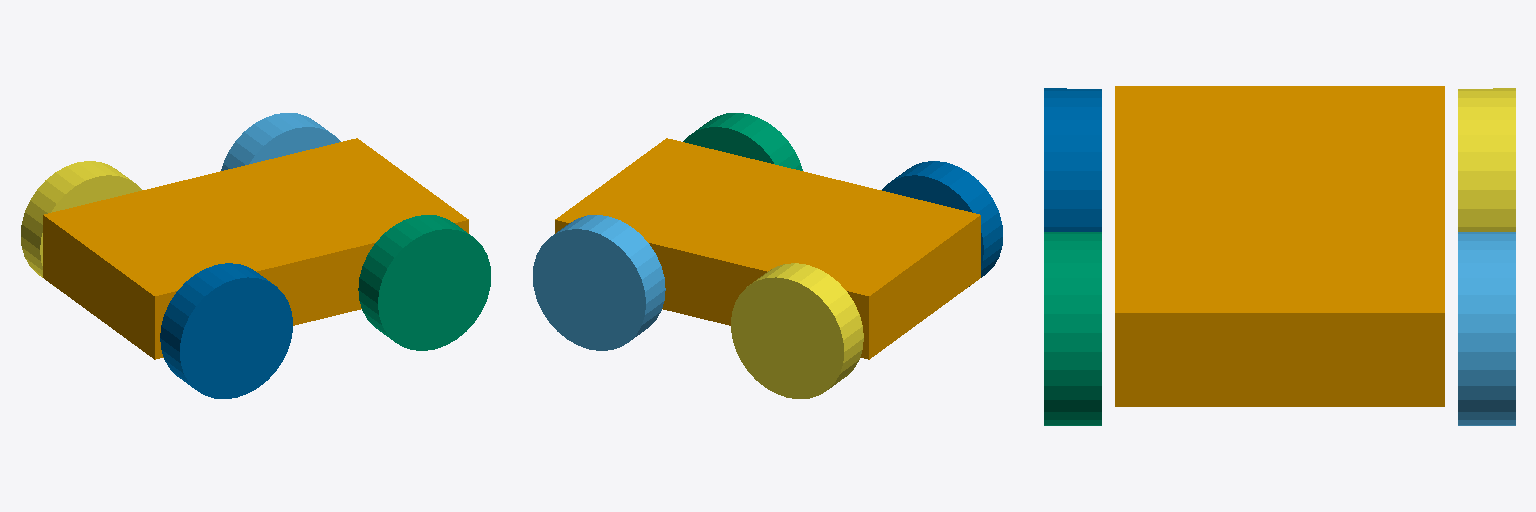
URDF robot description (symmetric_skid_steer):
<?xml version="1.0"?>
<robot name="symmetric_skid_steer">

  <material name="red">
    <color rgba="1 0 0 1"/>
  </material>

  <!-- Base Link: COM is at the geometric center -->
  <link name="main_body">
    <inertial>
      <mass value="21.0"/>
      <inertia ixx="0.4" ixy="0.0" ixz="0.0" iyy="0.77" iyz="0.0" izz="1.01"/>
    </inertial>
    <!-- Visual and collision geometries are centered -->
    <visual name="main_body_visual">
      <origin xyz="0 0 0.07" rpy="0 0 0"/>
      <geometry>
        <box size="0.65 0.4 0.125"/>
      </geometry>
    </visual>
    <collision name="main_body_collision">
      <origin xyz="0 0 0.07" rpy="0 0 0.0"/>
      <geometry>
        <box size=".65 .4 .125"/>
      </geometry>
      <material name="red"/>
    </collision>
  </link>

  <!-- Left Front Wheel -->
  <link name="left_front_wheel">
    <inertial>
      <!-- Inertial origin is at the joint location relative to the base -->
      <mass value="1.0"/>
      <inertia ixx="0.01" ixy="0.0" ixz="0.0" iyy="0.01" iyz="0.0" izz="0.01"/>
    </inertial>
    <visual name="left_front_wheel_visual">
      <origin xyz="0 0 0" rpy="0 0 0"/>
      <geometry>
        <cylinder length="0.07" radius="0.1175"/>
      </geometry>
    </visual>
    <collision name="left_front_wheel_collision">
      <origin xyz="0 0 0" rpy="0 0 0"/>
      <geometry>
        <cylinder length="0.07" radius="0.1175"/>
      </geometry>
    </collision>
  </link>

  <!-- Right Front Wheel -->
  <link name="right_front_wheel">
    <inertial>
      <mass value="1.0"/>
      <inertia ixx="0.01" ixy="0.0" ixz="0.0" iyy="0.01" iyz="0.0" izz="0.01"/>
    </inertial>
    <visual name="right_front_wheel_visual">
      <origin xyz="0 0 0" rpy="0 0 0"/>
      <geometry>
        <cylinder length="0.07" radius="0.1175"/>
      </geometry>
    </visual>
    <collision name="right_front_wheel_collision">
      <origin xyz="0 0 0" rpy="0 0 0"/>
      <geometry>
        <cylinder length="0.07" radius="0.1175"/>
      </geometry>
    </collision>
  </link>

  <!-- Left Rear Wheel -->
  <link name="left_rear_wheel">
    <inertial>
      <mass value="1.0"/>
      <inertia ixx="0.01" ixy="0.0" ixz="0.0" iyy="0.01" iyz="0.0" izz="0.01"/>
    </inertial>
    <visual name="left_rear_wheel_visual">
      <origin xyz="0 0 0" rpy="0 0 0"/>
      <geometry>
        <cylinder length="0.07" radius="0.1175"/>
      </geometry>
    </visual>
    <collision name="left_rear_wheel_collision">
      <origin xyz="0 0 0" rpy="0 0 0"/>
      <geometry>
        <cylinder length="0.07" radius="0.1175"/>
      </geometry>
    </collision>
  </link>

  <!-- Right Rear Wheel -->
  <link name="right_rear_wheel">
    <inertial>
      <mass value="1.0"/>
      <inertia ixx="0.01" ixy="0.0" ixz="0.0" iyy="0.01" iyz="0.0" izz="0.01"/>
    </inertial>
    <visual name="right_rear_wheel_visual">
      <origin xyz="0 0 0" rpy="0 0 0"/>
      <geometry>
        <cylinder length="0.07" radius="0.1175"/>
      </geometry>
    </visual>
    <collision name="right_rear_wheel_collision">
      <origin xyz="0 0 0" rpy="0 0 0"/>
      <geometry>
        <cylinder length="0.07" radius="0.1175"/>
      </geometry>
    </collision>
  </link>

  <!-- Joints: All defined with symmetric origins relative to the base -->
  <joint name="left_front_wheel_joint" type="continuous">
    <parent link="main_body"/>
    <child link="left_front_wheel"/>
    <origin xyz="0.205 0.25 0.056" rpy="-1.5707 0 0"/>
    <axis xyz="0 0 1"/>
    <limit effort="100000.0" velocity="10"/>
  </joint>

  <joint name="right_front_wheel_joint" type="continuous">
    <parent link="main_body"/>
    <child link="right_front_wheel"/>
    <origin xyz="0.205 -0.25 0.056" rpy="1.5707 0 0"/>
    <axis xyz="0 0 1"/>
    <limit effort="100000.0" velocity="10"/>
  </joint>

  <joint name="left_rear_wheel_joint" type="continuous">
    <parent link="main_body"/>
    <child link="left_rear_wheel"/>
    <origin xyz="-0.205 0.25 0.056" rpy="-1.5707 0 0"/>
    <axis xyz="0 0 1"/>
    <limit effort="100000.0" velocity="10"/>
  </joint>

  <joint name="right_rear_wheel_joint" type="continuous">
    <parent link="main_body"/>
    <child link="right_rear_wheel"/>
    <origin xyz="-0.205 -0.25 0.056" rpy="1.5707 0 0"/>
    <axis xyz="0 0 1"/>
    <limit effort="100000.0" velocity="10"/>
  </joint>
</robot>

--- What the picture shows (computed from the rendered views, not written in the file) ---
3 views of the same robot in one strip: view 1: azimuth 30°, elevation 25°; view 2: azimuth 150°, elevation 25°; view 3: azimuth 270°, elevation 25° (orthographic).
Robot: symmetric_skid_steer — 5 links, 4 joints (4 continuous); root link main_body; default pose: all joints at 0.
Visible links, largest first — view 1: main_body, right_rear_wheel, right_front_wheel, left_rear_wheel, left_front_wheel; view 2: main_body, left_rear_wheel, left_front_wheel, right_rear_wheel, right_front_wheel; view 3: main_body, left_front_wheel, right_front_wheel, left_rear_wheel, right_rear_wheel.
Link boxes in pixels (<box>): main_body: <box>43,138,468,359</box>; right_rear_wheel: <box>160,263,292,398</box>; right_front_wheel: <box>358,215,490,350</box>; left_rear_wheel: <box>21,161,141,286</box>; left_front_wheel: <box>221,113,340,170</box>; main_body: <box>555,138,980,359</box>; left_rear_wheel: <box>731,263,863,398</box>; left_front_wheel: <box>533,215,665,350</box>; right_rear_wheel: <box>882,161,1002,286</box>; right_front_wheel: <box>683,113,802,170</box>; main_body: <box>1115,86,1444,406</box>; left_front_wheel: <box>1458,232,1515,425</box>; right_front_wheel: <box>1044,232,1101,425</box>; left_rear_wheel: <box>1458,88,1515,231</box>; right_rear_wheel: <box>1044,88,1101,231</box>.
Size in the robot's own frame: 0.65 by 0.57 by 0.235 metres.
Geometry: primitives only (box / cylinder / sphere), no mesh files.